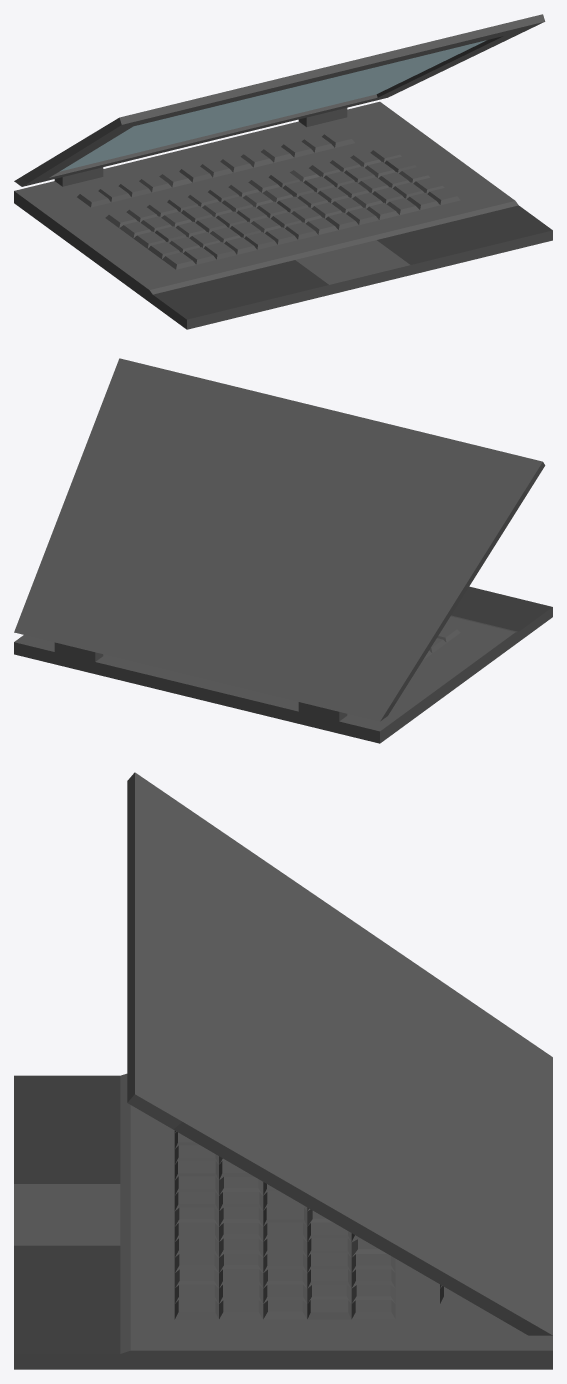
The model's file is portatil medio cerrado.fbx.
3 renders of one model, top to bottom at view 1: azimuth 30°, elevation 25°; view 2: azimuth 150°, elevation 25°; view 3: azimuth 270°, elevation 25°, orthographic. The views are drawn at different scales.
Parts seen in each view (by area): view 1: portatil medio cerrado; view 2: portatil medio cerrado; view 3: portatil medio cerrado.
Part boxes in pixels (box(x1,y1,x2,y2)): portatil medio cerrado: box(14, 14, 552, 329); portatil medio cerrado: box(14, 358, 552, 743); portatil medio cerrado: box(14, 772, 552, 1369).
Size of the model in its own units: 929 by 400 by 657.
